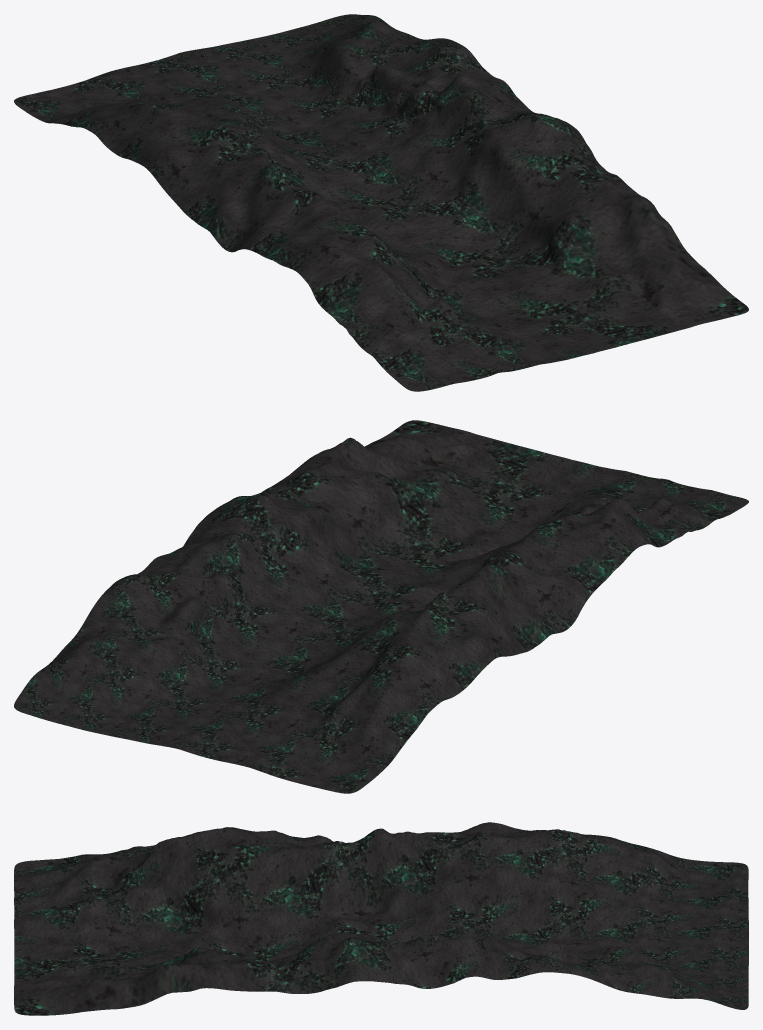
Rendered from array-ground.glb.
The picture shows the model from 3 angles, top to bottom: view 1: azimuth 30°, elevation 25°; view 2: azimuth 150°, elevation 25°; view 3: azimuth 270°, elevation 25°; orthographic projection. The views are drawn at different scales.
Visible parts, largest first — view 1: Landscape; view 2: Landscape; view 3: Landscape.
Part boxes in pixels (x1,y1,x2,y2): Landscape: (14,14,748,391); Landscape: (14,420,748,793); Landscape: (14,822,748,1015).
Bounding box in the file's own units: 6.25 × 1.34 × 12.24.
Materials: 1 (1 with a texture image).
